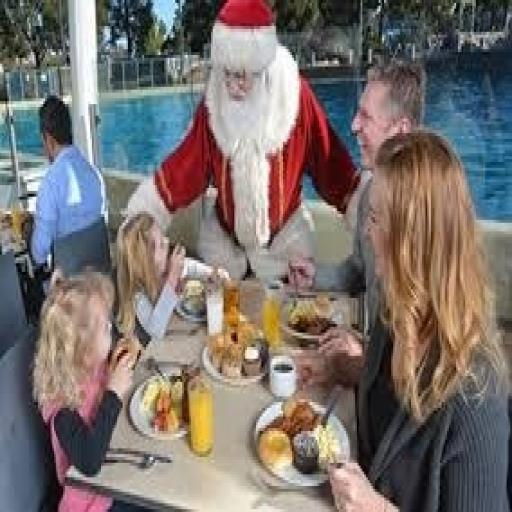eating: (22, 3, 508, 506)
